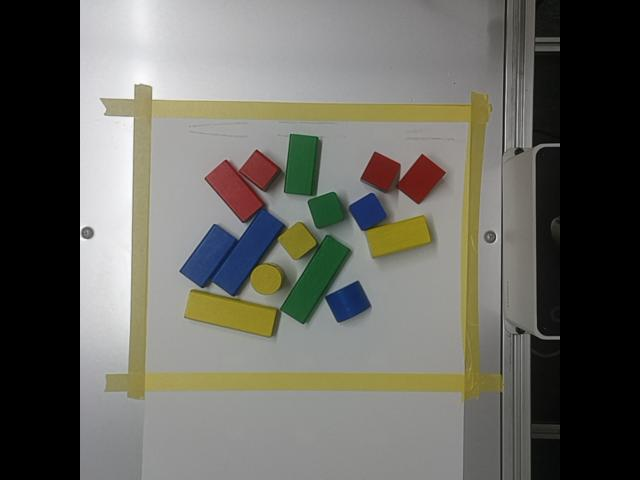blue_cube: (349, 193, 386, 230)
blue_longrect: (213, 209, 284, 295)
blue_rect: (180, 224, 237, 287)
cylinder: (250, 263, 284, 294)
green_cube: (308, 192, 344, 228)
green_longrect: (281, 236, 350, 323)
green_rect: (284, 135, 320, 194)
half_cylinder: (325, 281, 370, 322)
red_cube: (240, 150, 281, 191)
red_rect: (205, 160, 264, 222)
triangle: (398, 154, 445, 203), (361, 151, 400, 192)
yellow_cube: (278, 222, 317, 259)
yellow_longrect: (185, 290, 277, 337)
yelow_rect: (366, 215, 431, 257)
